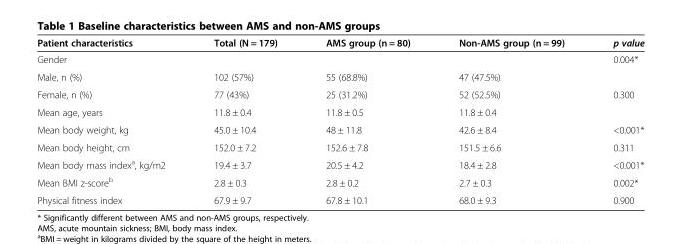table: (36, 36, 643, 205)
table column: (433, 36, 588, 205), (36, 36, 188, 205), (300, 36, 433, 205), (188, 36, 300, 205), (588, 36, 643, 205)
table column header: (36, 36, 643, 50)
table row: (36, 172, 643, 191), (36, 67, 643, 85), (36, 85, 643, 103), (36, 120, 643, 138), (36, 50, 643, 67), (36, 103, 643, 120), (36, 138, 643, 155), (36, 155, 643, 172), (36, 36, 643, 50), (36, 191, 643, 205)
table spanning cell: (588, 85, 643, 120)
